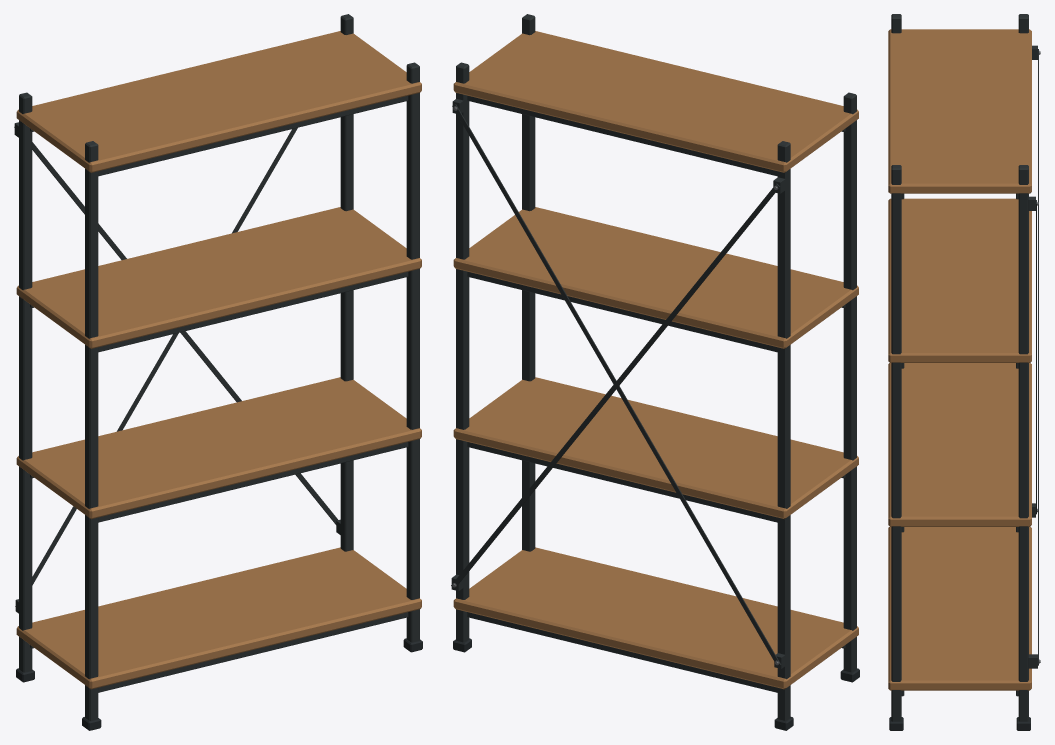
The model's file is open_shelf.glb.
The picture shows the model from 3 angles, left to right: view 1: azimuth 30°, elevation 25°; view 2: azimuth 150°, elevation 25°; view 3: azimuth 270°, elevation 25°; orthographic projection. The views are drawn at different scales.
Visible parts, largest first — view 1: Oak shelf 4, Oak shelf 3, Oak shelf 1, Oak shelf 2, Steel upright, Steel upright.002, Steel upright.001, Steel upright.003, Shelf support rail.002, Shelf support rail.004, Shelf support rail.006, Shelf support rail (+2 smaller); view 2: Oak shelf 4, Oak shelf 1, Oak shelf 3, Oak shelf 2, Steel upright, Steel upright.001, Steel upright.003, Steel upright.002, Rear diagonal A, Rear diagonal B, Shelf support rail.007, Shelf support rail.001 (+2 smaller); view 3: Oak shelf 4, Oak shelf 3, Oak shelf 2, Oak shelf 1, Steel upright.002, Steel upright.003, Rear diagonal B, Rear diagonal A.
Boxes of the visible parts, box(x1,y1,x2,y2) form: Oak shelf 4: box(16, 31, 421, 172); Oak shelf 3: box(16, 207, 421, 348); Oak shelf 1: box(16, 547, 421, 689); Oak shelf 2: box(16, 377, 421, 519); Steel upright: box(85, 141, 98, 720); Steel upright.002: box(406, 62, 419, 642); Steel upright.001: box(19, 92, 32, 672); Steel upright.003: box(340, 14, 353, 551); Shelf support rail.002: box(98, 442, 408, 522); Shelf support rail.004: box(98, 272, 408, 352); Shelf support rail.006: box(98, 95, 408, 176); Shelf support rail: box(98, 612, 408, 692); Oak shelf 4: box(453, 31, 858, 172); Oak shelf 1: box(453, 547, 858, 689); Oak shelf 3: box(453, 207, 858, 348); Oak shelf 2: box(453, 377, 858, 518); Steel upright: box(843, 92, 856, 672); Steel upright.001: box(777, 141, 790, 720); Steel upright.003: box(456, 62, 469, 642); Steel upright.002: box(522, 14, 535, 551); Rear diagonal A: box(452, 104, 781, 666); Rear diagonal B: box(451, 183, 779, 588); Shelf support rail.007: box(467, 95, 777, 176); Shelf support rail.001: box(467, 612, 777, 692); Oak shelf 4: box(888, 29, 1031, 193); Oak shelf 3: box(888, 198, 1031, 362); Oak shelf 2: box(888, 363, 1031, 526); Oak shelf 1: box(888, 526, 1031, 690); Steel upright.002: box(891, 165, 901, 721); Steel upright.003: box(1018, 165, 1028, 721); Rear diagonal B: box(1038, 49, 1038, 665); Rear diagonal A: box(1036, 200, 1036, 514).
Bounding box in the file's own units: 0.905 × 1.51 × 0.3715.
